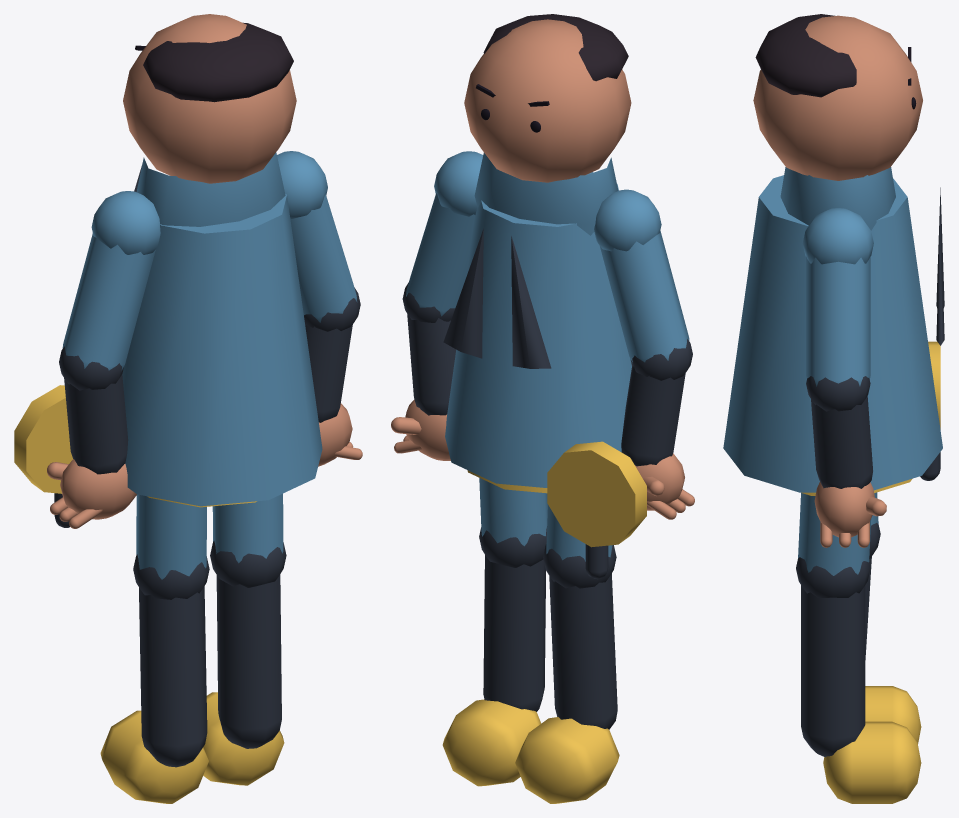
The model's file is doctor_drizzle_final.glb.
3 renders of one model, left to right at view 1: azimuth 30°, elevation 25°; view 2: azimuth 150°, elevation 25°; view 3: azimuth 270°, elevation 25°, orthographic. The views are drawn at different scales.
Visible parts, largest first — view 1: TAILORED_COAT, HEAD, LEG_L_LOWER, LEG_R_LOWER, SCULPTED_HAIR, ARM_L_UPPER, TORSO, ARM_R_UPPER, FOOT_L, LEG_L_UPPER, ARM_L_LOWER, WEATHER_DIAL (+10 smaller); view 2: TAILORED_COAT, HEAD, LEG_L_LOWER, LEG_R_LOWER, WEATHER_DIAL, ARM_L_UPPER, FOOT_L, TORSO, FOOT_R, ARM_R_UPPER, ARM_L_LOWER, ARM_R_LOWER (+13 smaller); view 3: TAILORED_COAT, HEAD, LEG_R_LOWER, ARM_R_UPPER, FOOT_R, SCULPTED_HAIR, ARM_R_LOWER, TORSO, SHOULDER_R_JOINT, LEG_R_UPPER, PALM, FOOT_L (+4 smaller).
Boxes of the visible parts, left/top/right/bottom form: TAILORED_COAT: left=122, top=194, right=322, bottom=506; HEAD: left=123, top=14, right=296, bottom=183; LEG_L_LOWER: left=139, top=586, right=207, bottom=767; LEG_R_LOWER: left=216, top=574, right=281, bottom=748; SCULPTED_HAIR: left=143, top=22, right=293, bottom=102; ARM_L_UPPER: left=62, top=233, right=155, bottom=371; TORSO: left=136, top=152, right=285, bottom=226; ARM_R_UPPER: left=290, top=194, right=357, bottom=322; FOOT_L: left=100, top=710, right=208, bottom=803; LEG_L_UPPER: left=136, top=494, right=206, bottom=579; ARM_L_LOWER: left=64, top=373, right=128, bottom=474; WEATHER_DIAL: left=14, top=385, right=72, bottom=493; TAILORED_COAT: left=445, top=172, right=631, bottom=487; HEAD: left=464, top=19, right=631, bottom=182; LEG_L_LOWER: left=549, top=573, right=617, bottom=729; LEG_R_LOWER: left=483, top=555, right=545, bottom=711; WEATHER_DIAL: left=547, top=441, right=646, bottom=547; ARM_L_UPPER: left=600, top=231, right=689, bottom=362; FOOT_L: left=515, top=717, right=619, bottom=803; TORSO: left=474, top=153, right=618, bottom=235; FOOT_R: left=442, top=699, right=541, bottom=786; ARM_R_UPPER: left=406, top=193, right=475, bottom=316; ARM_L_LOWER: left=621, top=366, right=685, bottom=466; ARM_R_LOWER: left=407, top=314, right=456, bottom=415; TAILORED_COAT: left=723, top=175, right=942, bottom=492; HEAD: left=753, top=15, right=922, bottom=180; LEG_R_LOWER: left=801, top=585, right=865, bottom=757; ARM_R_UPPER: left=806, top=256, right=870, bottom=386; FOOT_R: left=823, top=721, right=921, bottom=803; SCULPTED_HAIR: left=755, top=14, right=856, bottom=97; ARM_R_LOWER: left=811, top=396, right=872, bottom=488; TORSO: left=780, top=167, right=895, bottom=230; SHOULDER_R_JOINT: left=802, top=208, right=873, bottom=264; LEG_R_UPPER: left=798, top=493, right=871, bottom=575; PALM: left=814, top=482, right=874, bottom=537; FOOT_L: left=865, top=686, right=921, bottom=743.
Size of the model in its own units: 0.8406 by 2.13 by 0.5632.
